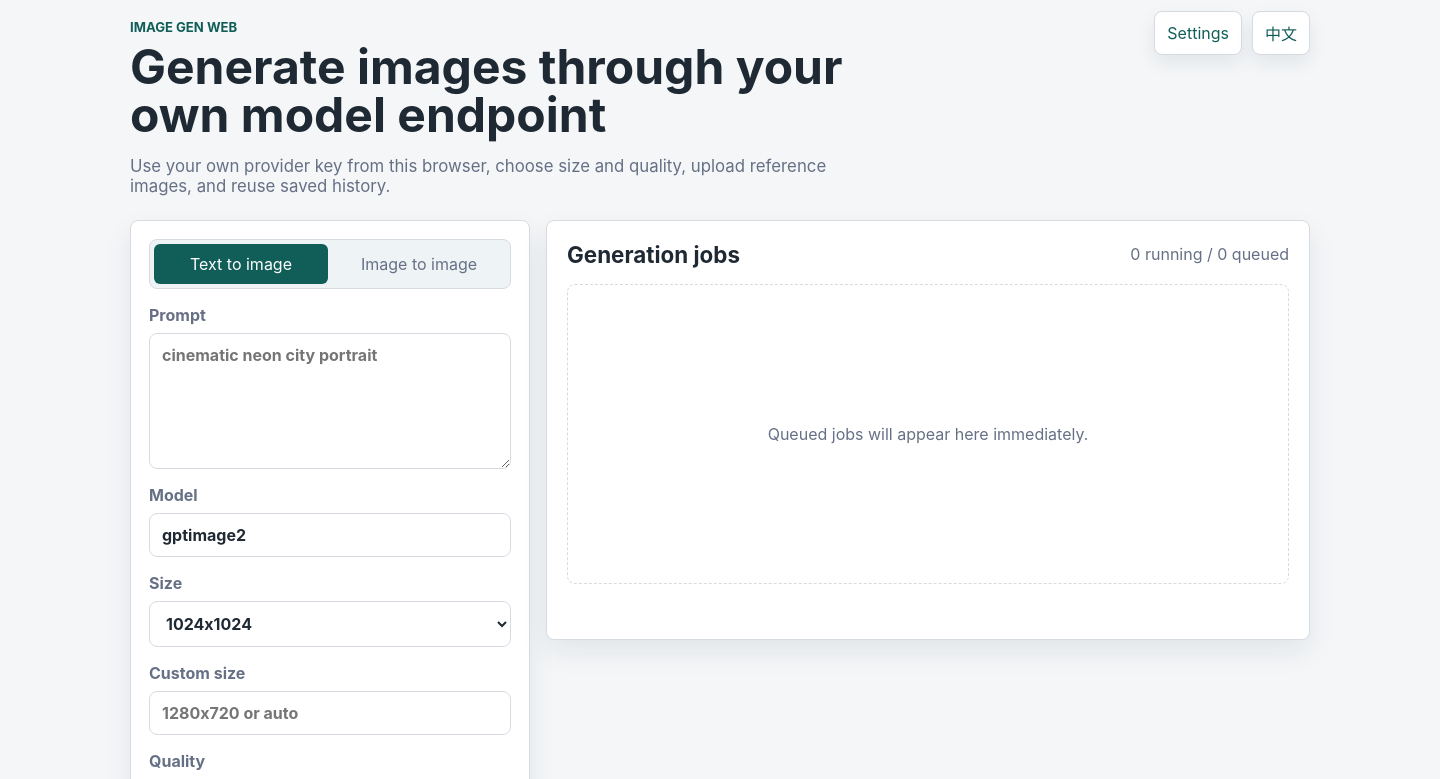
Test: App › shows image upload after switching to image-to-image
Expected: the field showing "gptimage2" is shown, [149, 513, 511, 557]
Click the button "Image to image" at (419, 264), box [332, 244, 506, 284]
(page scrolled)
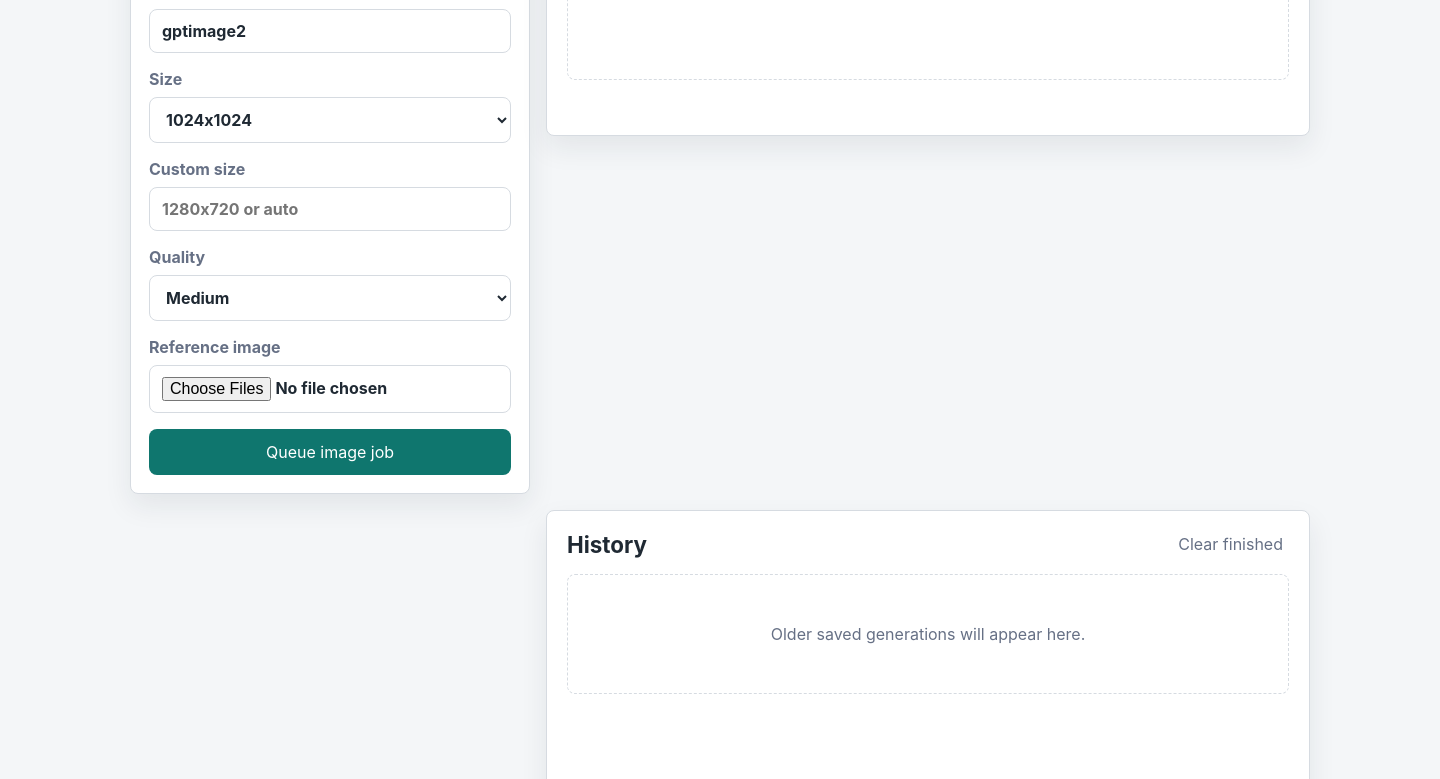
Expected: the file field labelled "Reference image" is shown, [149, 365, 511, 413]
